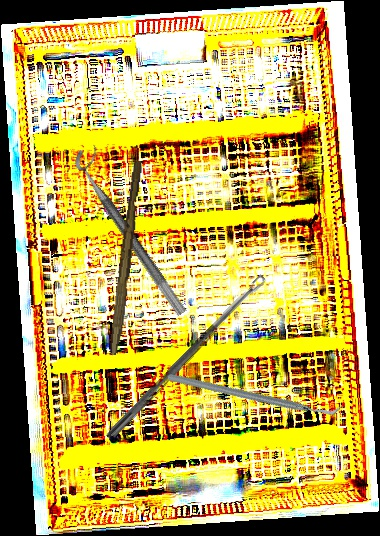Chopper: (165, 312, 346, 475)
Fixation Ring: (69, 141, 201, 318)
Scalpel Handle: (109, 160, 144, 356)
Surgical Spoon: (105, 274, 268, 442)
